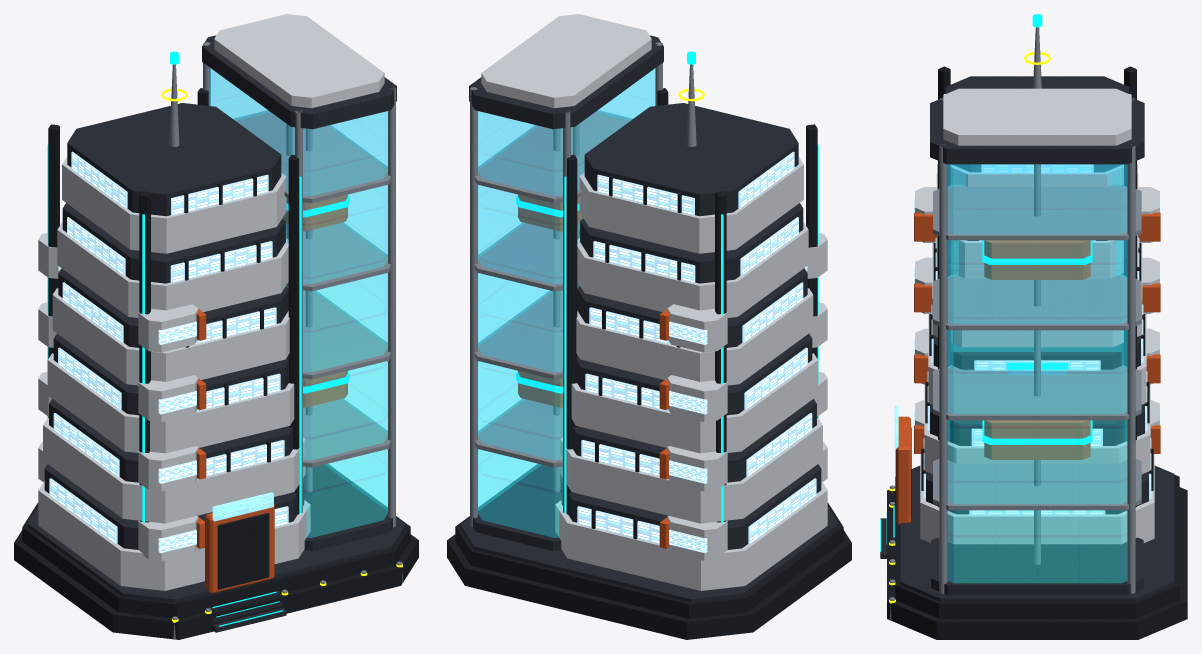
File: bldg_01_winner_01_hab_spire.glb
3 renders of one model, left to right at view 1: azimuth 30°, elevation 25°; view 2: azimuth 150°, elevation 25°; view 3: azimuth 270°, elevation 25°, orthographic. The views are drawn at different scales.
Visible parts, largest first — view 1: Bldg01_C02_aero_white, Bldg01_C02_carbon_slate, Bldg01_C02_glass_cyan, Bldg01_C02_gunmetal, Bldg01_C02_steel_machined, Bldg01_C02_window_lit, Bldg01_C02_accent_orange, Bldg01_C02_led_cyan, Bldg01_C02_marquee; view 2: Bldg01_C02_aero_white, Bldg01_C02_carbon_slate, Bldg01_C02_glass_cyan, Bldg01_C02_steel_machined, Bldg01_C02_gunmetal, Bldg01_C02_window_lit, Bldg01_C02_accent_orange, Bldg01_C02_led_cyan; view 3: Bldg01_C02_glass_cyan, Bldg01_C02_steel_machined, Bldg01_C02_aero_white, Bldg01_C02_carbon_slate, Bldg01_C02_gunmetal, Bldg01_C02_accent_orange, Bldg01_C02_window_lit, Bldg01_C02_led_cyan.
Boxes of the visible parts, left/top/right/bottom form: Bldg01_C02_aero_white: left=38, top=14, right=384, bottom=590; Bldg01_C02_carbon_slate: left=27, top=35, right=405, bottom=632; Bldg01_C02_glass_cyan: left=210, top=68, right=387, bottom=537; Bldg01_C02_gunmetal: left=14, top=88, right=418, bottom=639; Bldg01_C02_steel_machined: left=169, top=42, right=402, bottom=639; Bldg01_C02_window_lit: left=49, top=151, right=288, bottom=553; Bldg01_C02_accent_orange: left=196, top=194, right=347, bottom=593; Bldg01_C02_led_cyan: left=47, top=51, right=349, bottom=626; Bldg01_C02_marquee: left=212, top=492, right=273, bottom=521; Bldg01_C02_aero_white: left=481, top=14, right=827, bottom=590; Bldg01_C02_carbon_slate: left=460, top=35, right=838, bottom=602; Bldg01_C02_glass_cyan: left=478, top=68, right=655, bottom=537; Bldg01_C02_steel_machined: left=470, top=42, right=696, bottom=527; Bldg01_C02_gunmetal: left=447, top=88, right=851, bottom=639; Bldg01_C02_window_lit: left=577, top=151, right=816, bottom=553; Bldg01_C02_accent_orange: left=518, top=194, right=669, bottom=548; Bldg01_C02_led_cyan: left=516, top=51, right=818, bottom=522; Bldg01_C02_glass_cyan: left=947, top=164, right=1127, bottom=582; Bldg01_C02_steel_machined: left=889, top=27, right=1141, bottom=620; Bldg01_C02_aero_white: left=915, top=88, right=1159, bottom=544; Bldg01_C02_carbon_slate: left=880, top=76, right=1174, bottom=601; Bldg01_C02_gunmetal: left=887, top=66, right=1187, bottom=639; Bldg01_C02_accent_orange: left=896, top=212, right=1160, bottom=524; Bldg01_C02_window_lit: left=914, top=94, right=1160, bottom=515; Bldg01_C02_led_cyan: left=880, top=14, right=1092, bottom=551.
Size of the model in its own units: 12 by 19.32 by 10.23.
Materials: 10 (10 with a texture image).
